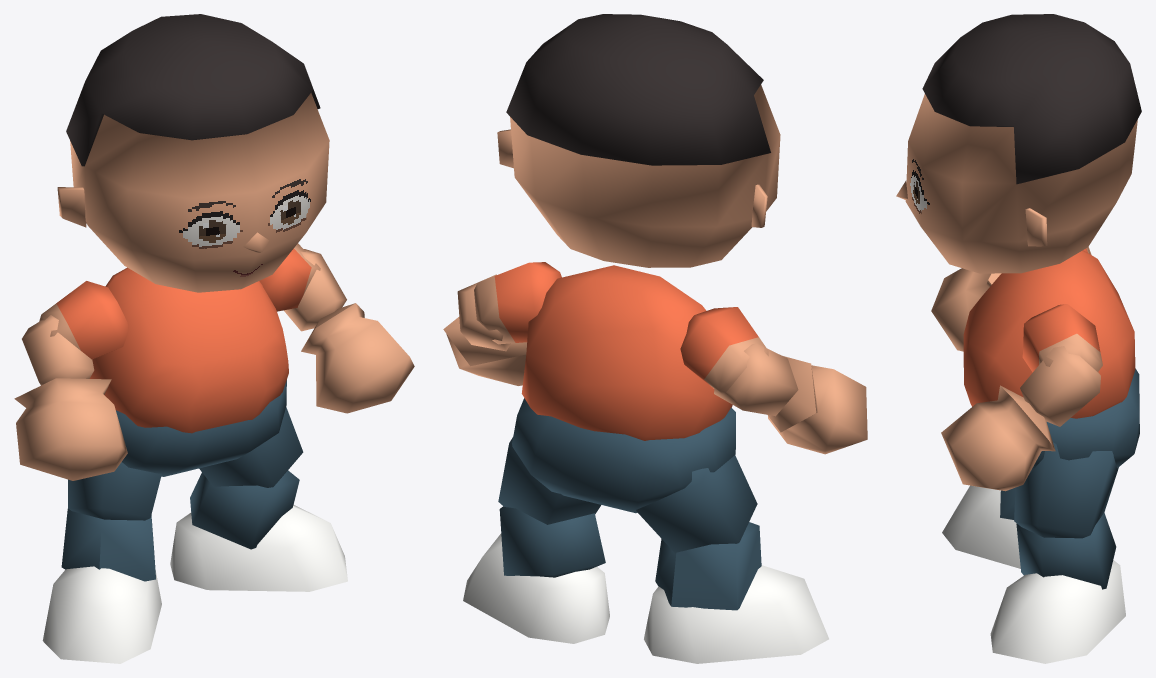
The picture shows the model from 3 angles, left to right: view 1: azimuth 30°, elevation 25°; view 2: azimuth 150°, elevation 25°; view 3: azimuth 270°, elevation 25°; orthographic projection. The views are drawn at different scales.
Visible parts, largest first — view 1: Character; view 2: Character; view 3: Character.
Boxes of the visible parts, box(x1,y1,x2,y2) form: Character: box(14, 14, 414, 663); Character: box(443, 14, 867, 663); Character: box(896, 14, 1141, 663).
Bounding box in the file's own units: 1.98 × 2.71 × 1.08.
9 materials, 2 textured.
